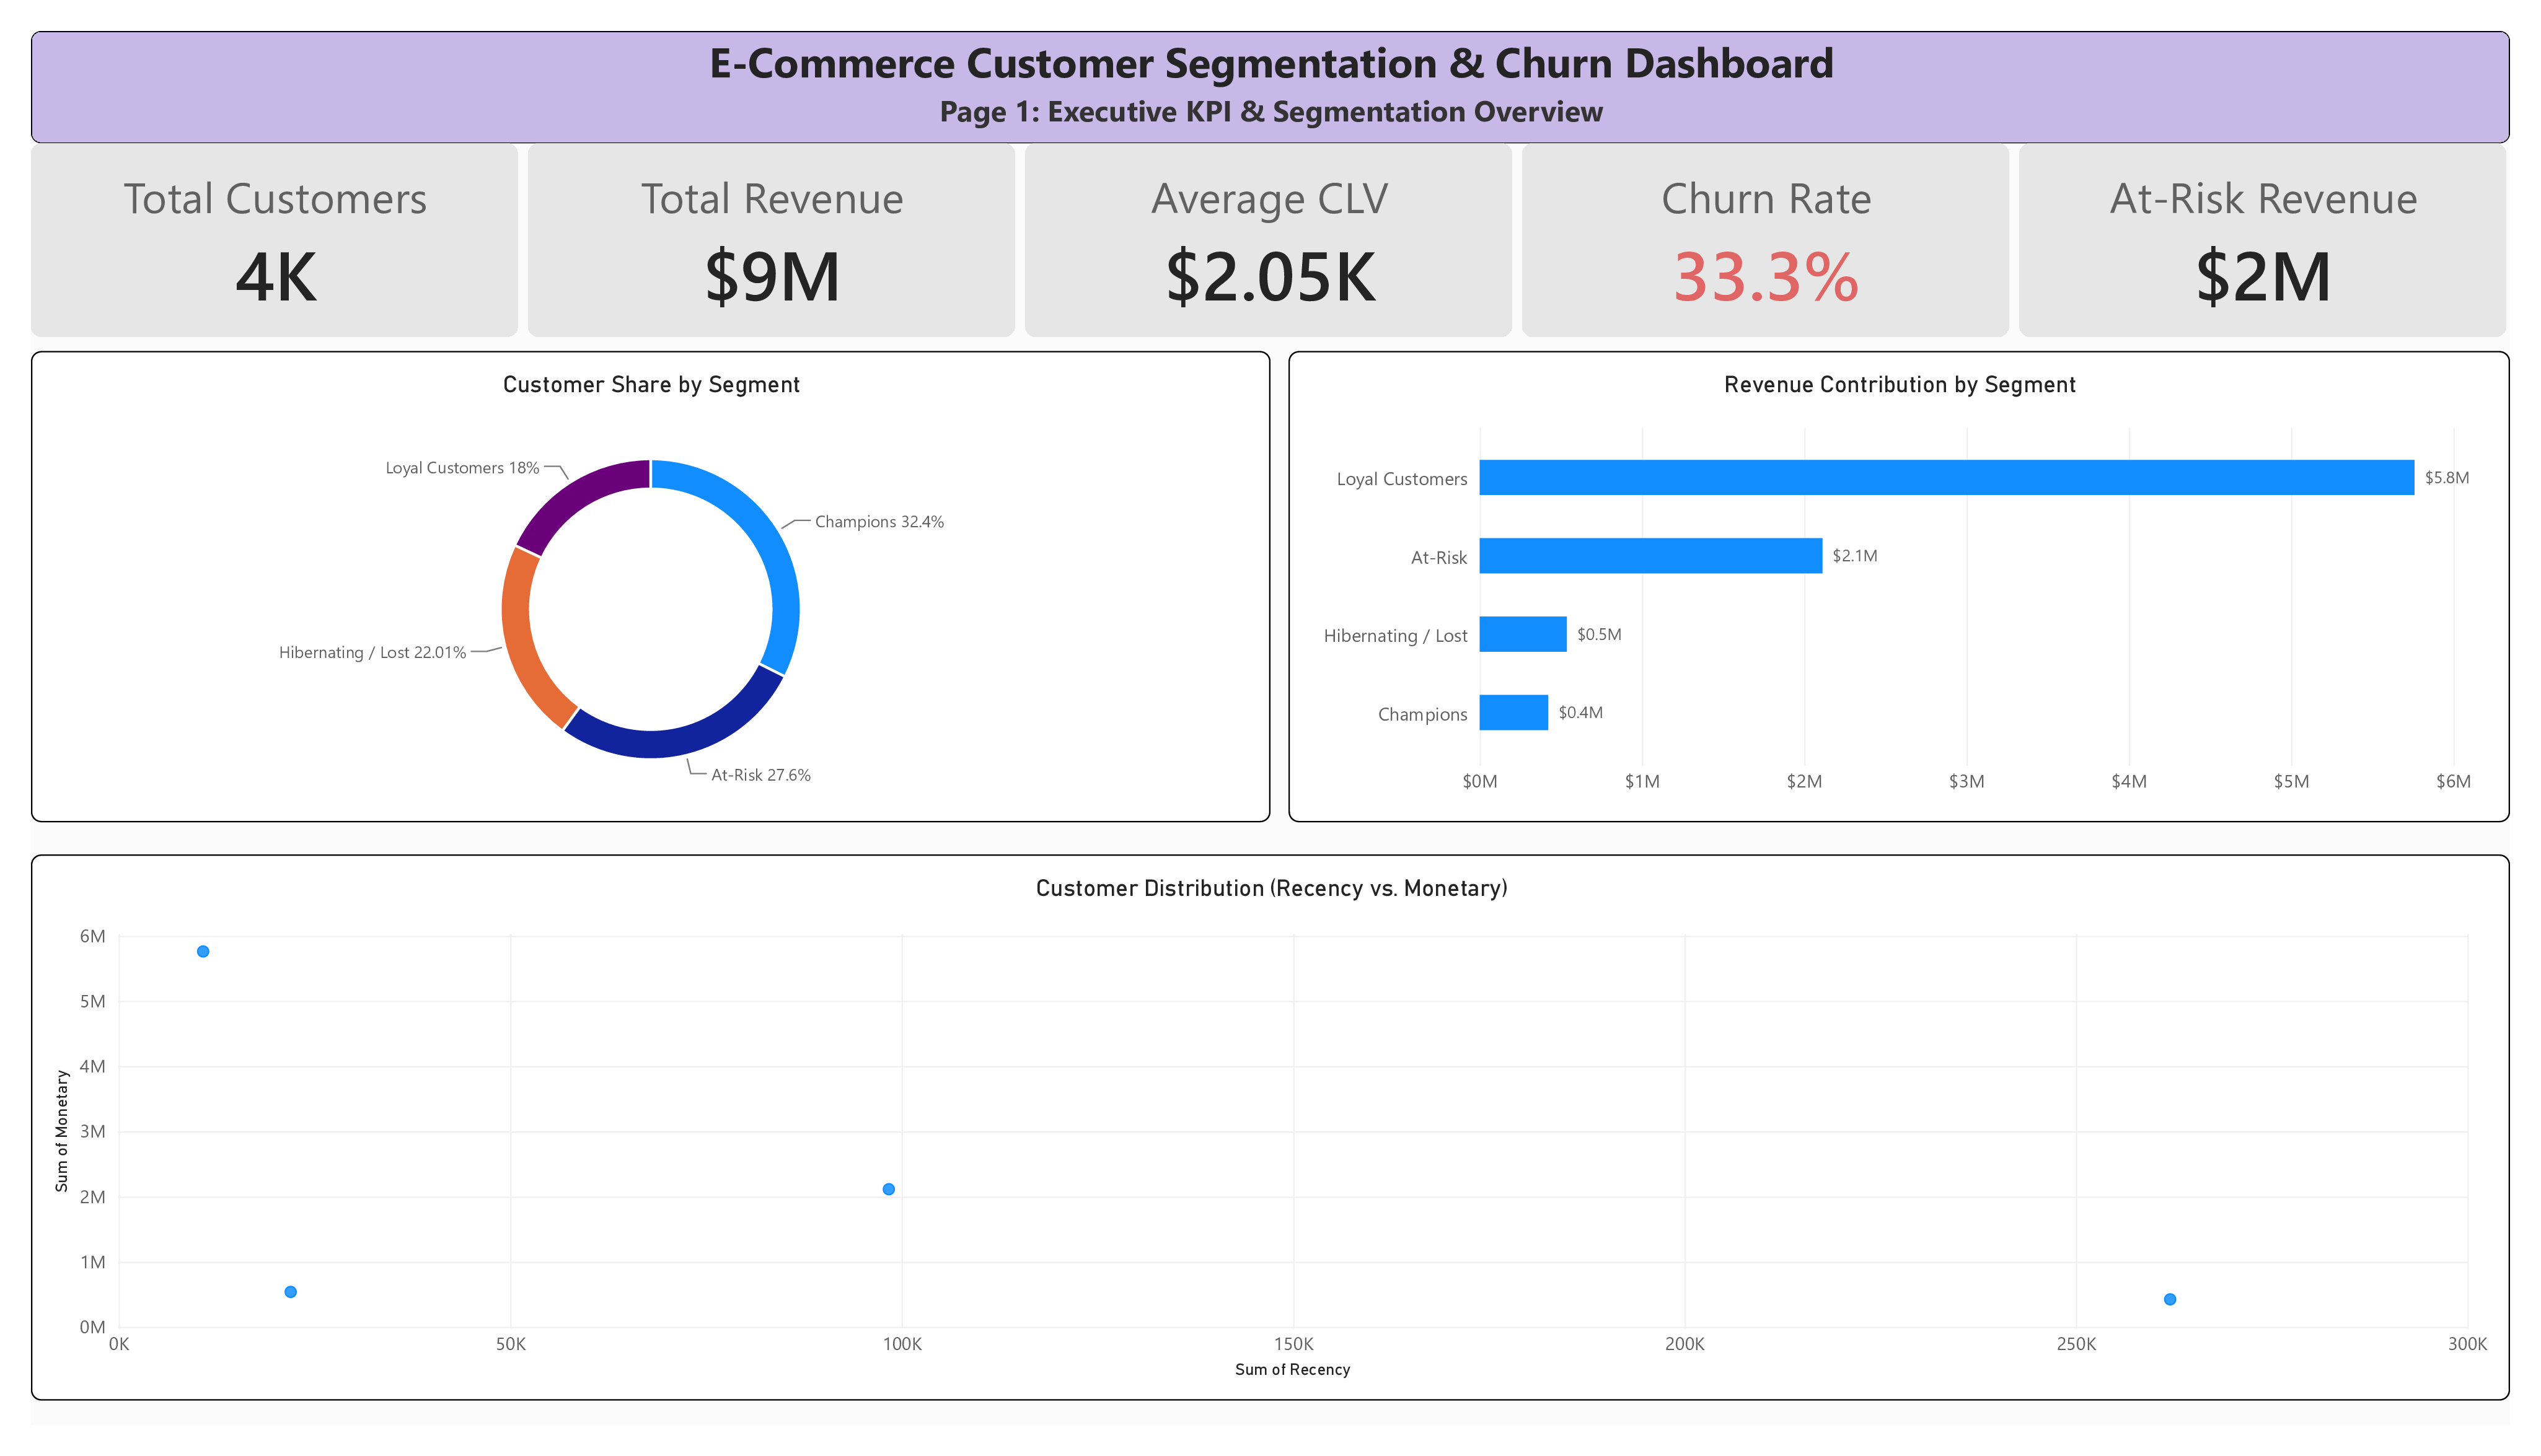

The dashboard page shown, as its layout file describes it:
{"tool":"powerbi","page":{"name":"Overview","canvas":[1920,1080],"ordinal":0},"visuals":[{"type":"textbox","title":"E-Commerce Customer Segmentation & Churn Dashboard","box":[0,0,1920,86.7],"z":0},{"type":"cardVisual","fields":{"Data":["_KeyMeasures.Total Customers","_KeyMeasures.Total Revenue","_KeyMeasures.Average CLV","_KeyMeasures.Churn Rate","_KeyMeasures.At-Risk Revenue"]},"box":[0,86.7,1920,150.7],"z":1000},{"type":"donutChart","title":"Customer Share by Segment","fields":{"Category":["customer_rfm_segments.Segment"],"Y":["_KeyMeasures.Total Customers"]},"box":[0,247.7,960,365.4],"z":2000},{"type":"clusteredBarChart","title":"Revenue Contribution by Segment","fields":{"Category":["customer_rfm_segments.Segment"],"Y":["_KeyMeasures.Total Revenue"]},"box":[974.5,247.7,945.5,365.4],"z":3000},{"type":"scatterChart","title":"Customer Distribution (Recency vs. Monetary)","fields":{"X":["Sum(customer_rfm_segments.Recency)"],"Y":["Sum(customer_rfm_segments.Monetary)"],"Category":["customer_rfm_segments.Segment"]},"box":[0,637.9,1920,423.2],"z":4000}]}

Visuals, with their boxes on the page's 1920x1080 design canvas (x1, y1, x2, y2). These are canvas units, not pixel positions in the 2541x1456 screenshot, which may show the page scaled, cropped or inside an application window:
"E-Commerce Customer Segmentation & Churn Dashboard" textbox: bbox=(0, 0, 1920, 87)
cardVisual - _KeyMeasures.Total Customers x _KeyMeasures.Total Revenue: bbox=(0, 87, 1920, 237)
"Customer Share by Segment" donutChart: bbox=(0, 248, 960, 613)
"Revenue Contribution by Segment" clusteredBarChart: bbox=(974, 248, 1920, 613)
"Customer Distribution (Recency vs. Monetary)" scatterChart: bbox=(0, 638, 1920, 1061)
